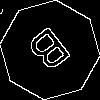B: (25, 25, 79, 82)
